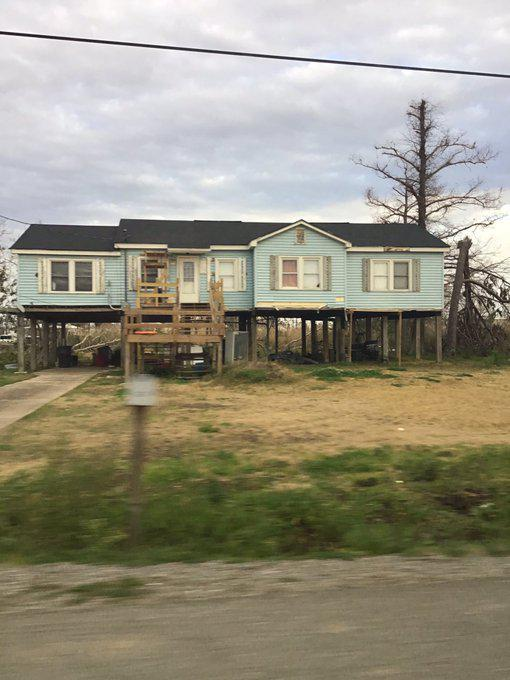minor: (9, 208, 456, 390)
